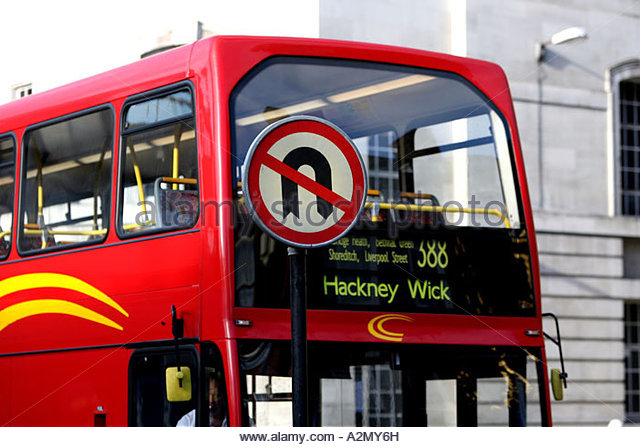No_u_turn: (246, 117, 366, 247)
